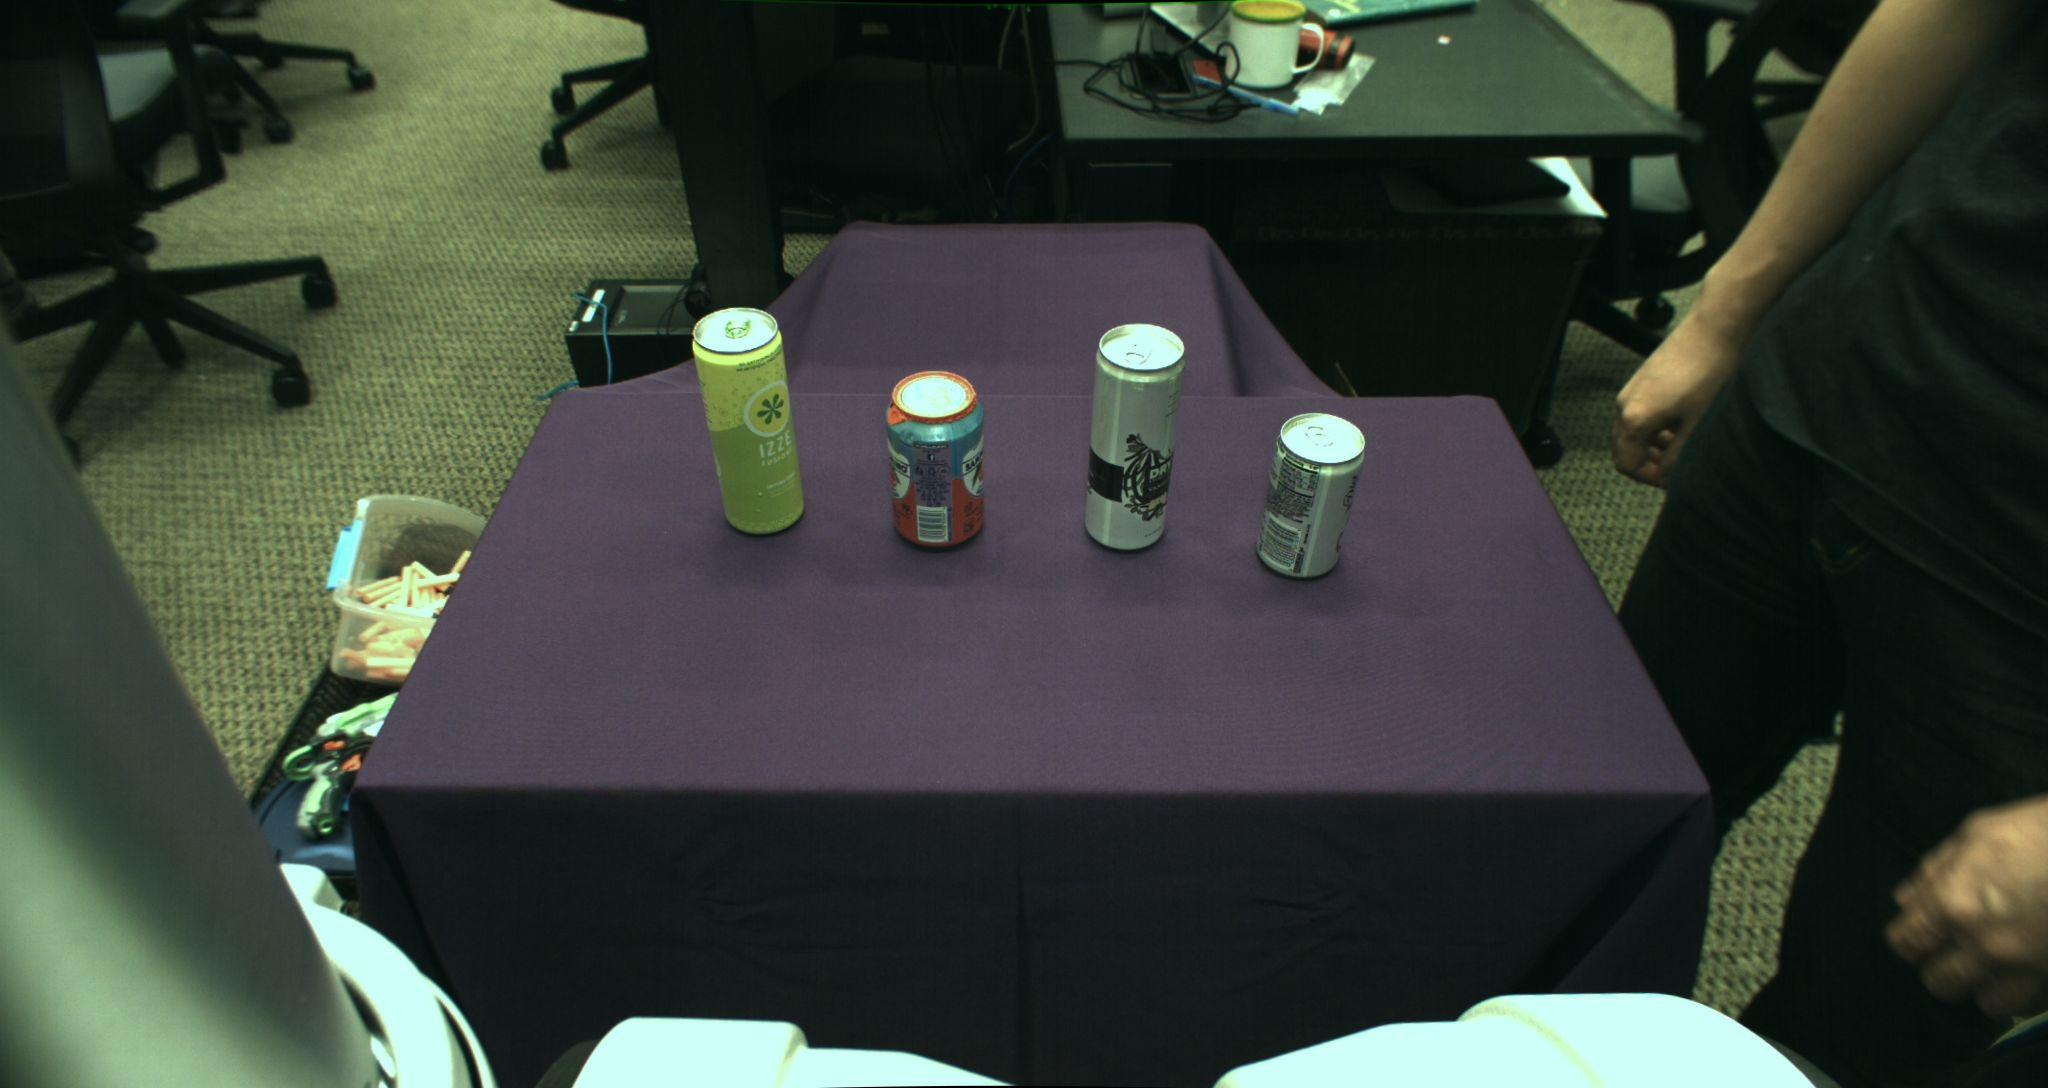can_diet_coke_small: (1257, 412, 1365, 580)
can_dry_sparkling_vanilla_bean: (1085, 322, 1185, 551)
can_izze_fusions_lemon_lime: (689, 308, 805, 537)
can_sanpellegrino_blood_orange: (884, 370, 985, 551)
